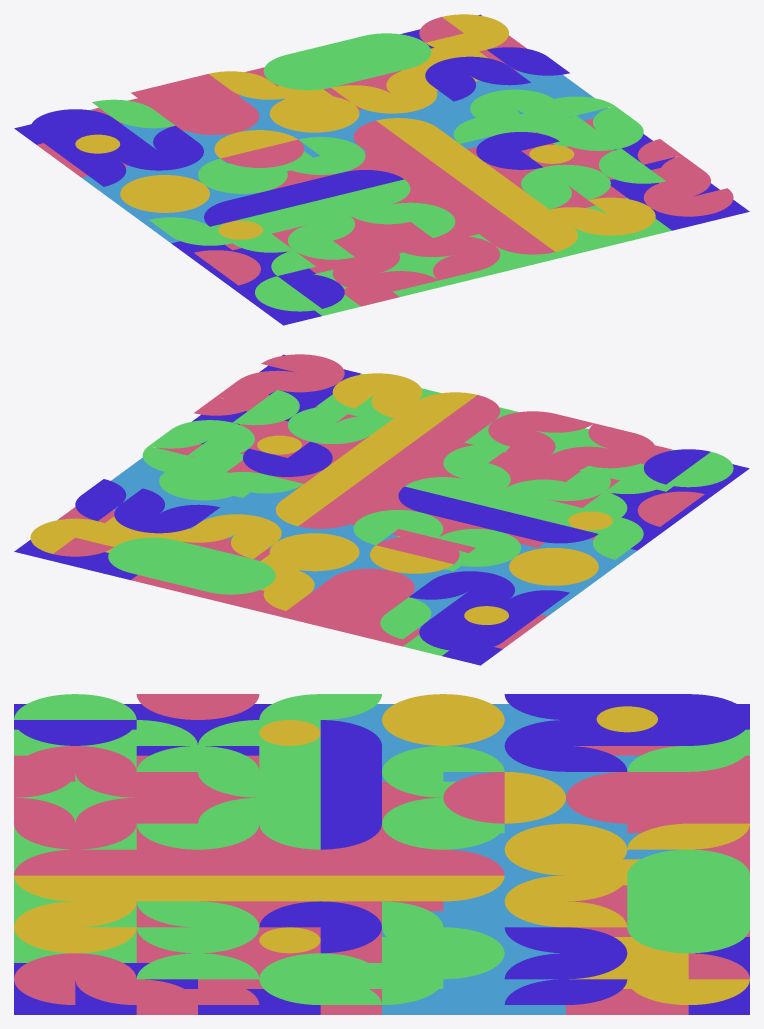
Rendered from TrimSheets.fbx.
3 renders of one model, top to bottom at view 1: azimuth 30°, elevation 25°; view 2: azimuth 150°, elevation 25°; view 3: azimuth 270°, elevation 25°, orthographic. The views are drawn at different scales.
Visible parts, largest first — view 1: Circle, Plane.021; view 2: Circle, Plane.021; view 3: Circle, Plane.021.
Boxes of the visible parts, x1,y1,x2,y2 form: Circle: (30, 14, 733, 311); Plane.021: (14, 14, 749, 325); Circle: (30, 354, 733, 651); Plane.021: (14, 354, 749, 665); Circle: (14, 694, 749, 1004); Plane.021: (14, 704, 749, 1014).
Bounding box in the file's own units: 200 × 3.13 × 200.
